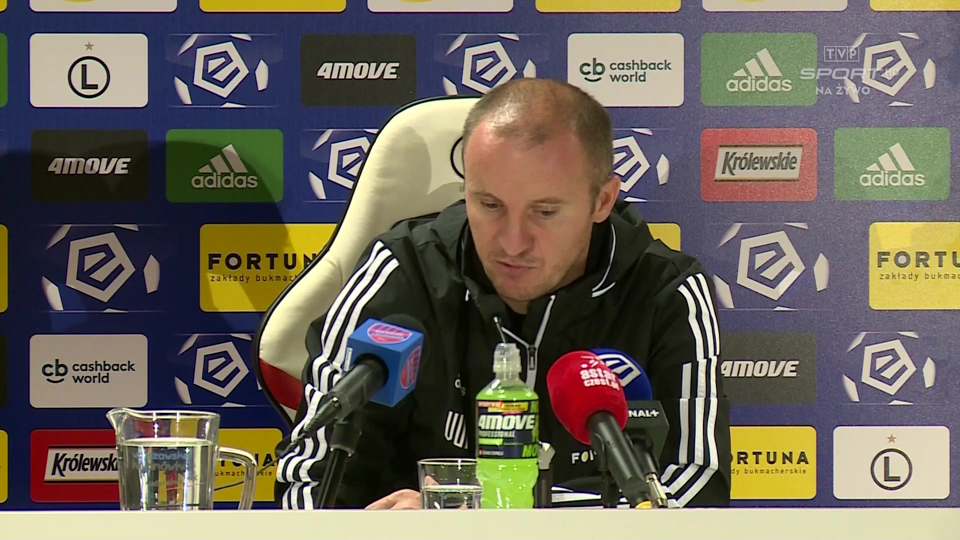Adidas: (190, 142, 258, 188), (726, 47, 792, 92), (860, 141, 924, 186)
